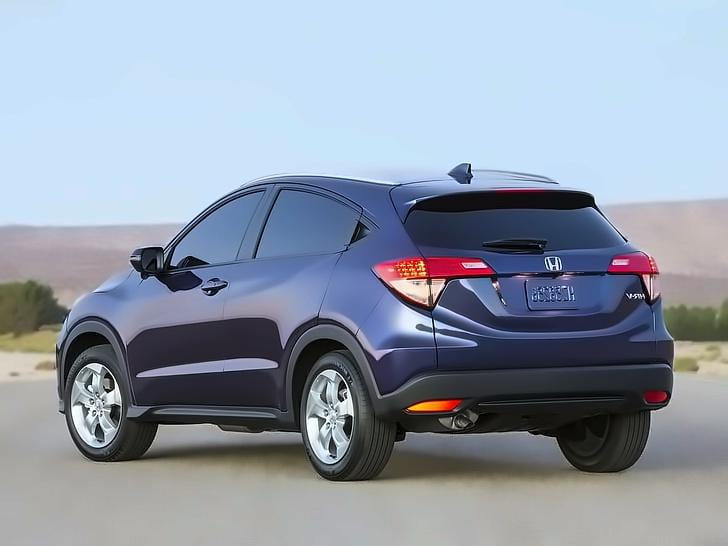Car boot: (392, 176, 678, 379)
Fender - -F-L-: (64, 259, 157, 360)
Front bumper: (49, 313, 73, 427)
Passenger-s door - -F-L-: (123, 173, 280, 429)
Passenger-s door - -R-L-: (211, 174, 377, 431)
Rear bumper: (353, 286, 680, 438)
Rear light - -L-: (368, 255, 498, 312)
Rear light - -R-: (607, 249, 664, 303)
Side bumper - -L-: (122, 384, 306, 440)
Side mirror - -L-: (129, 243, 169, 279)
